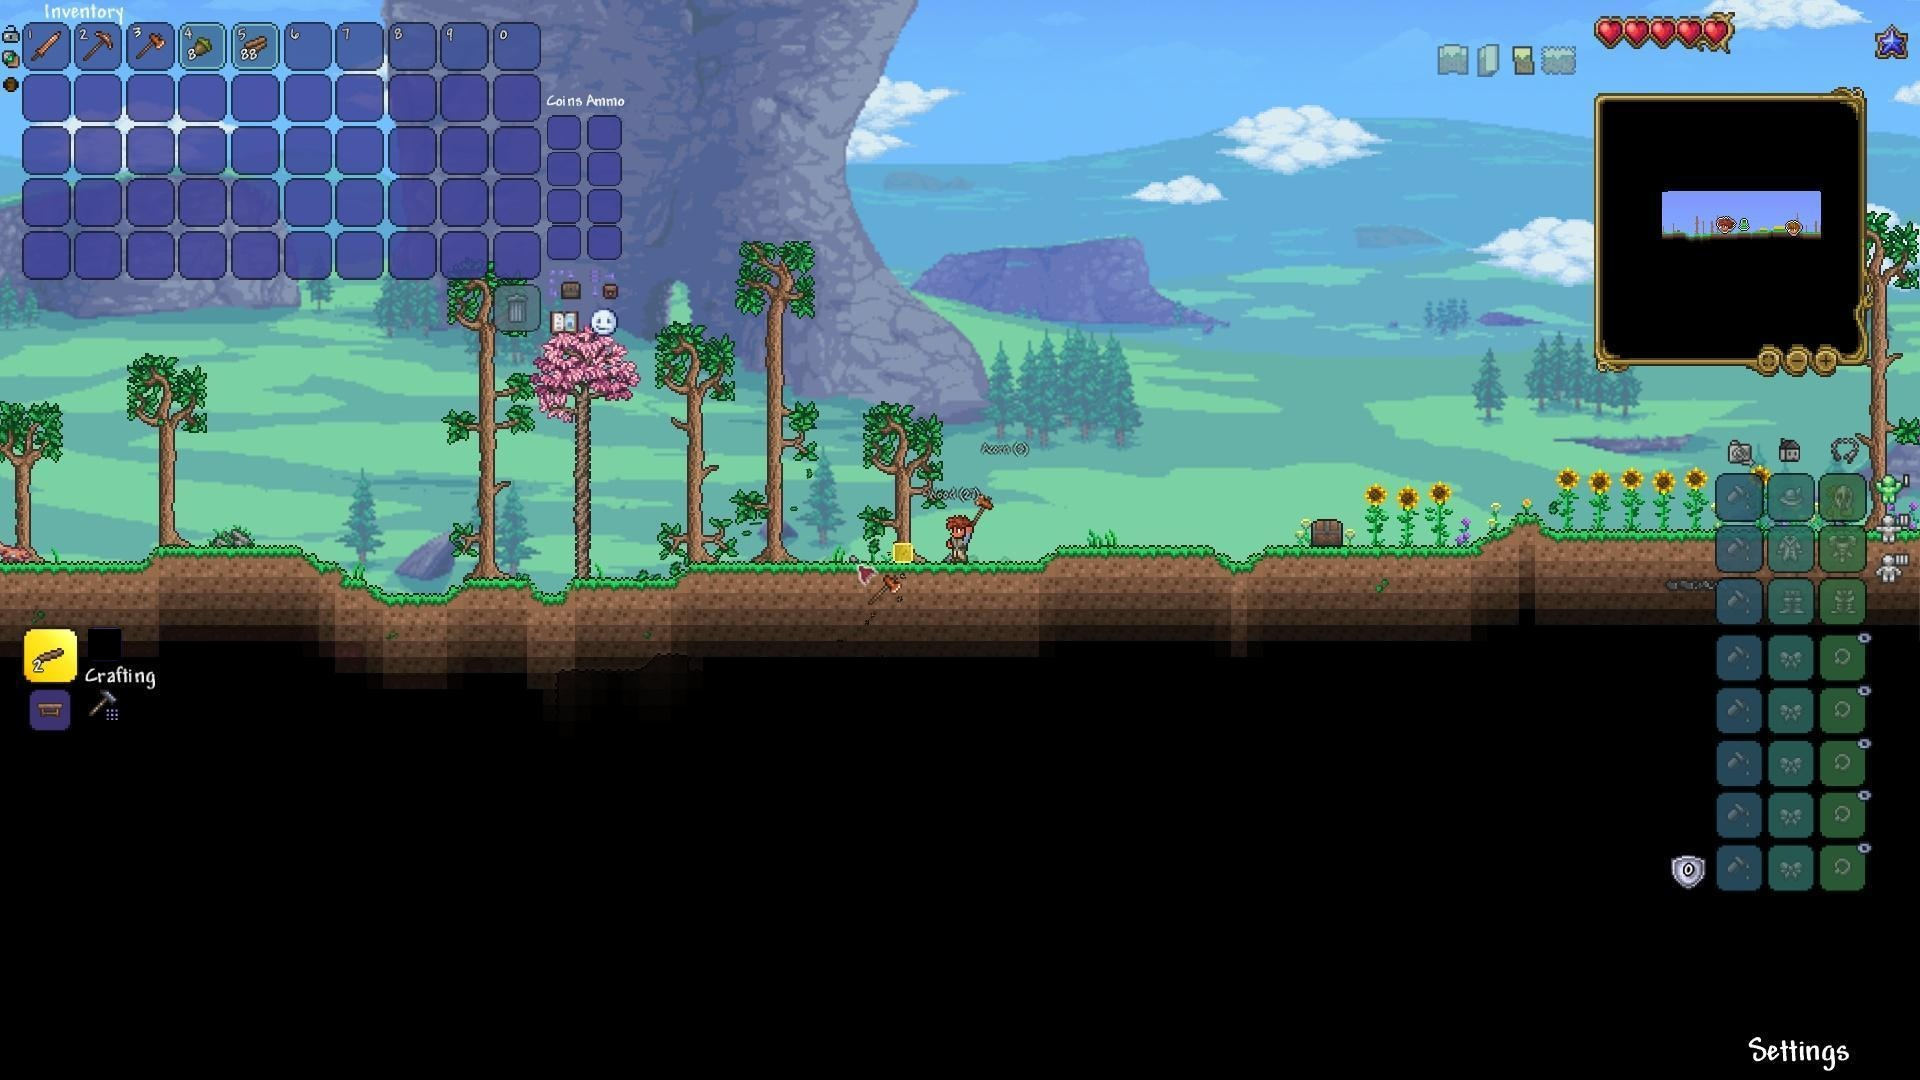wood: (243, 32, 266, 55)
workbench: (34, 699, 66, 723)
